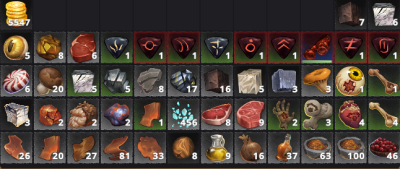aurelium ore: (35, 31, 65, 62)
copper ore: (35, 100, 65, 129)
durable hide: (68, 133, 98, 163)
ethereal dust: (168, 98, 197, 129)
flexible hide: (102, 134, 131, 163)
gold: (2, 1, 31, 28)
granite stone: (267, 66, 299, 96)
iron ore: (103, 98, 132, 128)
limestone stone: (1, 99, 31, 129)
marble stone: (67, 66, 98, 95), (369, 1, 400, 29)
silver ore: (102, 66, 132, 95)
slate stone: (202, 66, 231, 95), (335, 1, 365, 29)
soft leather: (135, 132, 164, 162)
strong hide: (35, 132, 65, 162), (137, 99, 164, 129)
tin ore: (169, 66, 197, 94)
tough hide: (1, 132, 31, 161)
travertine stone: (235, 66, 265, 95)
